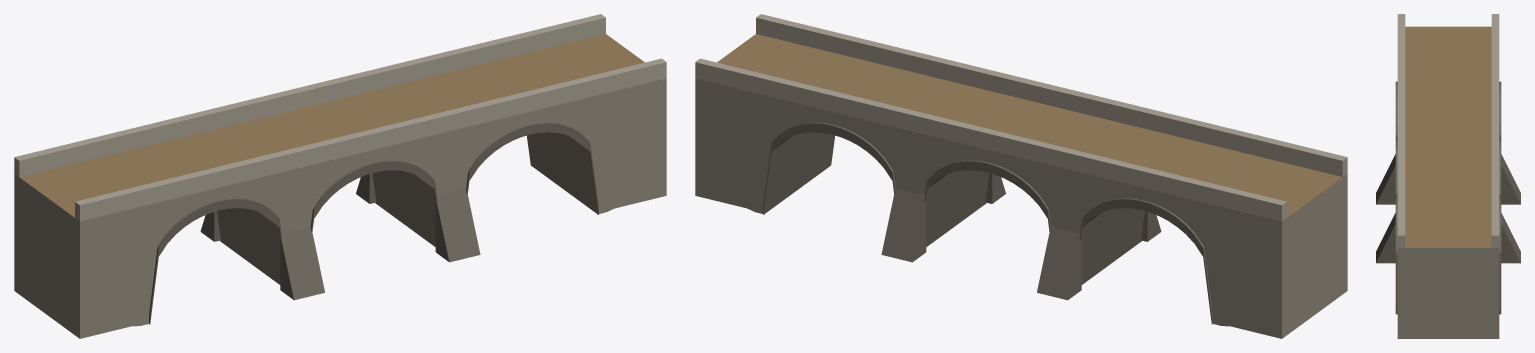
File: stone_bridge.glb
The picture shows the model from 3 angles, left to right: view 1: azimuth 30°, elevation 25°; view 2: azimuth 150°, elevation 25°; view 3: azimuth 270°, elevation 25°; orthographic projection. The views are drawn at different scales.
Parts seen in each view (by area): view 1: stone_bridge; view 2: stone_bridge; view 3: stone_bridge.
Boxes of the visible parts, box(x1,y1,x2,y2) form: stone_bridge: box(14, 14, 666, 338); stone_bridge: box(695, 14, 1347, 338); stone_bridge: box(1376, 14, 1520, 338).
Size of the model in its own units: 34 by 7.5 by 9.4.
